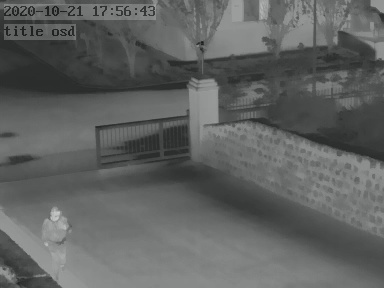person: (42, 202, 73, 279)
